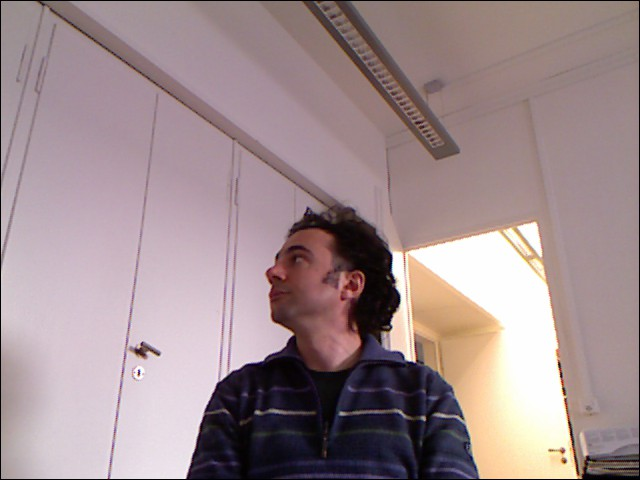deflection: (225, 220, 449, 480)
